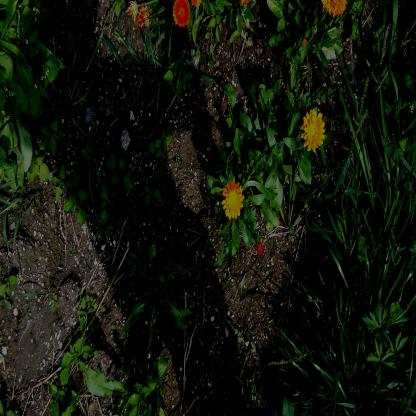marigold: (302, 107, 324, 152), (224, 180, 244, 220), (172, 0, 191, 28)
